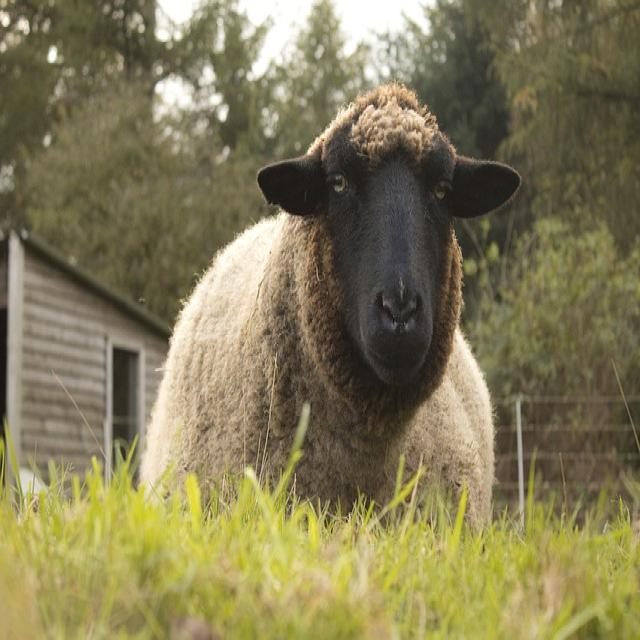goat: (138, 84, 523, 530)
